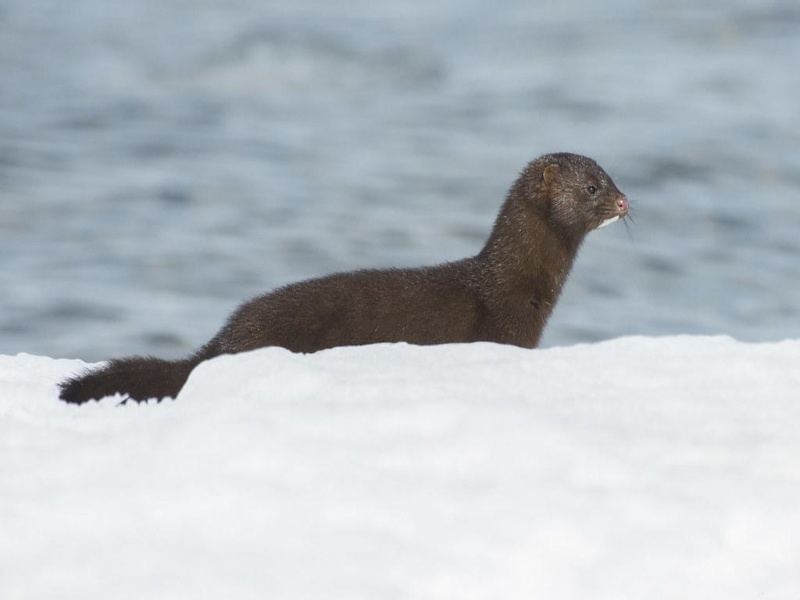minkish: (54, 150, 629, 410)
